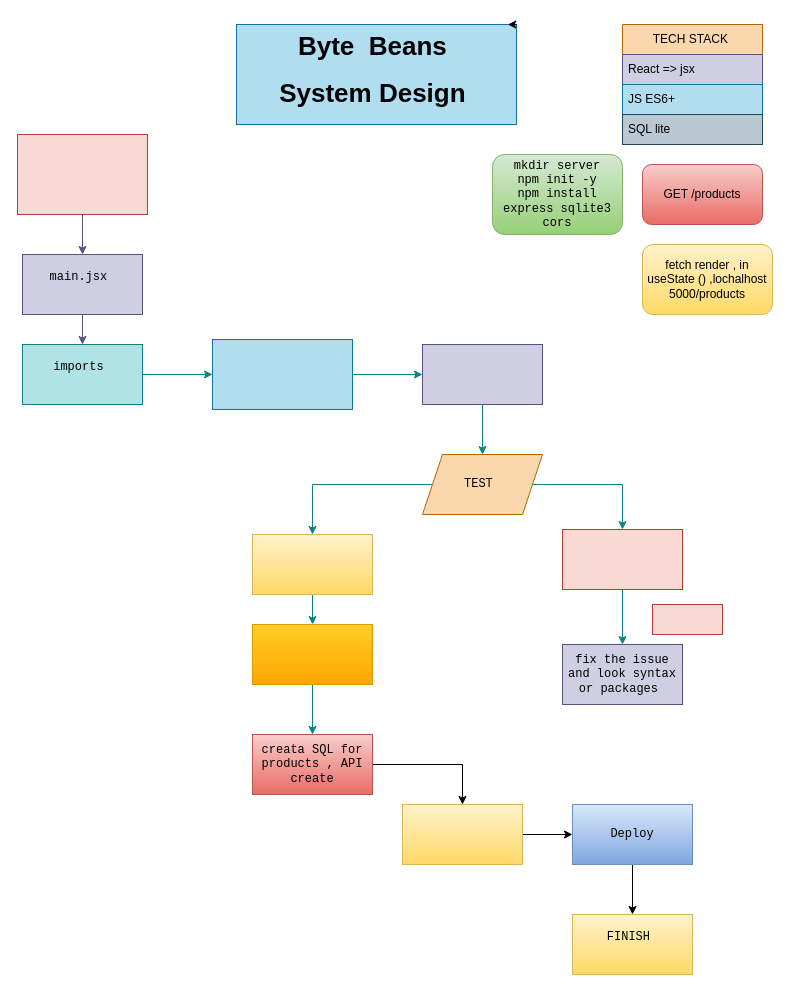
Image size: 790x992. Some labels were removed from this diagram. The shapes that lost their labels are listed below. From the top down, each one's centre as x and y in pixels, then its label:
point (82, 174): Set env npm / node /frontend & /backend
point (282, 374): create links / Nav, hero, product , about, contact
point (482, 374): set background img , tailwind init
point (312, 564): no error
point (622, 559): Error package
point (687, 619): return
point (312, 654): UI Render
point (462, 834): Connect React Fetch
